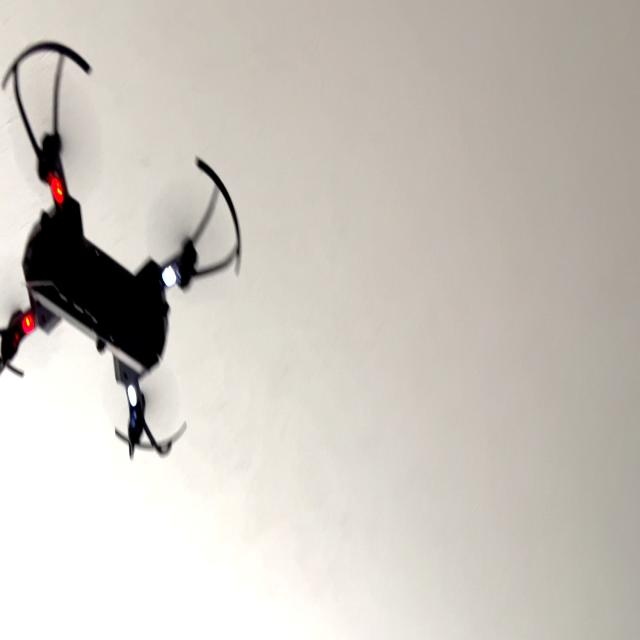drone: (0, 23, 255, 479)
